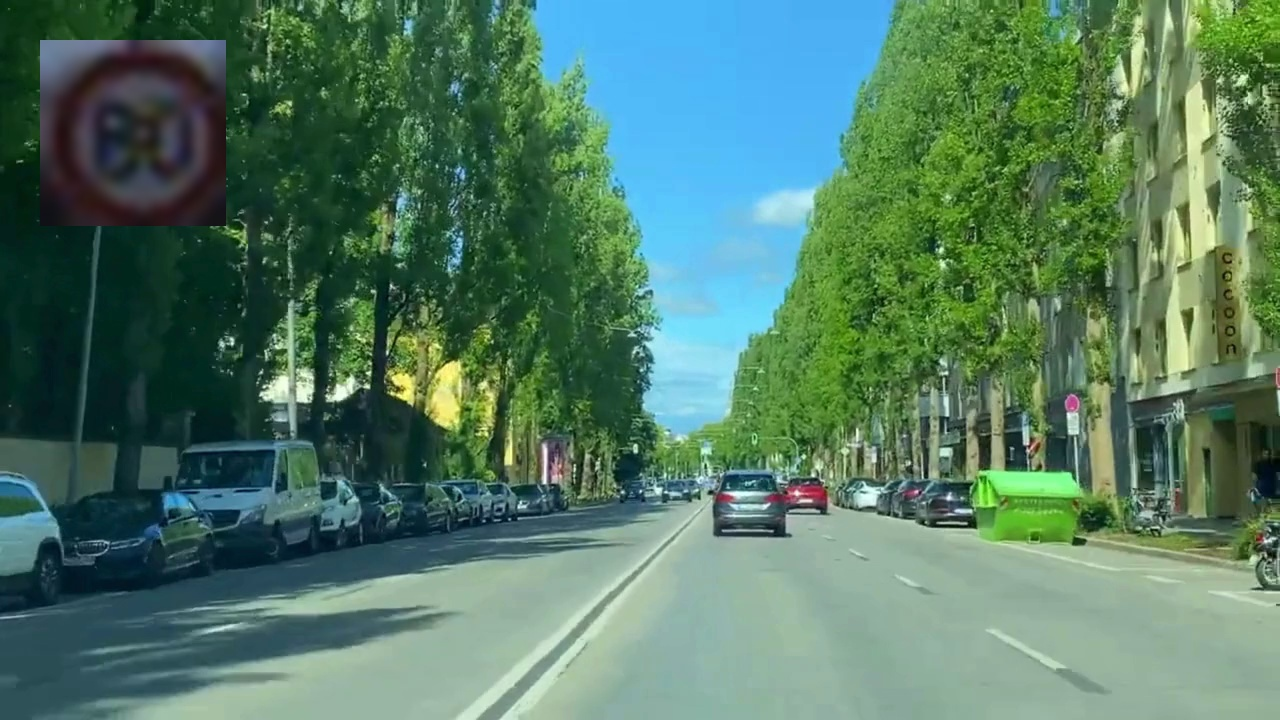Speed 80: (40, 40, 226, 226)
